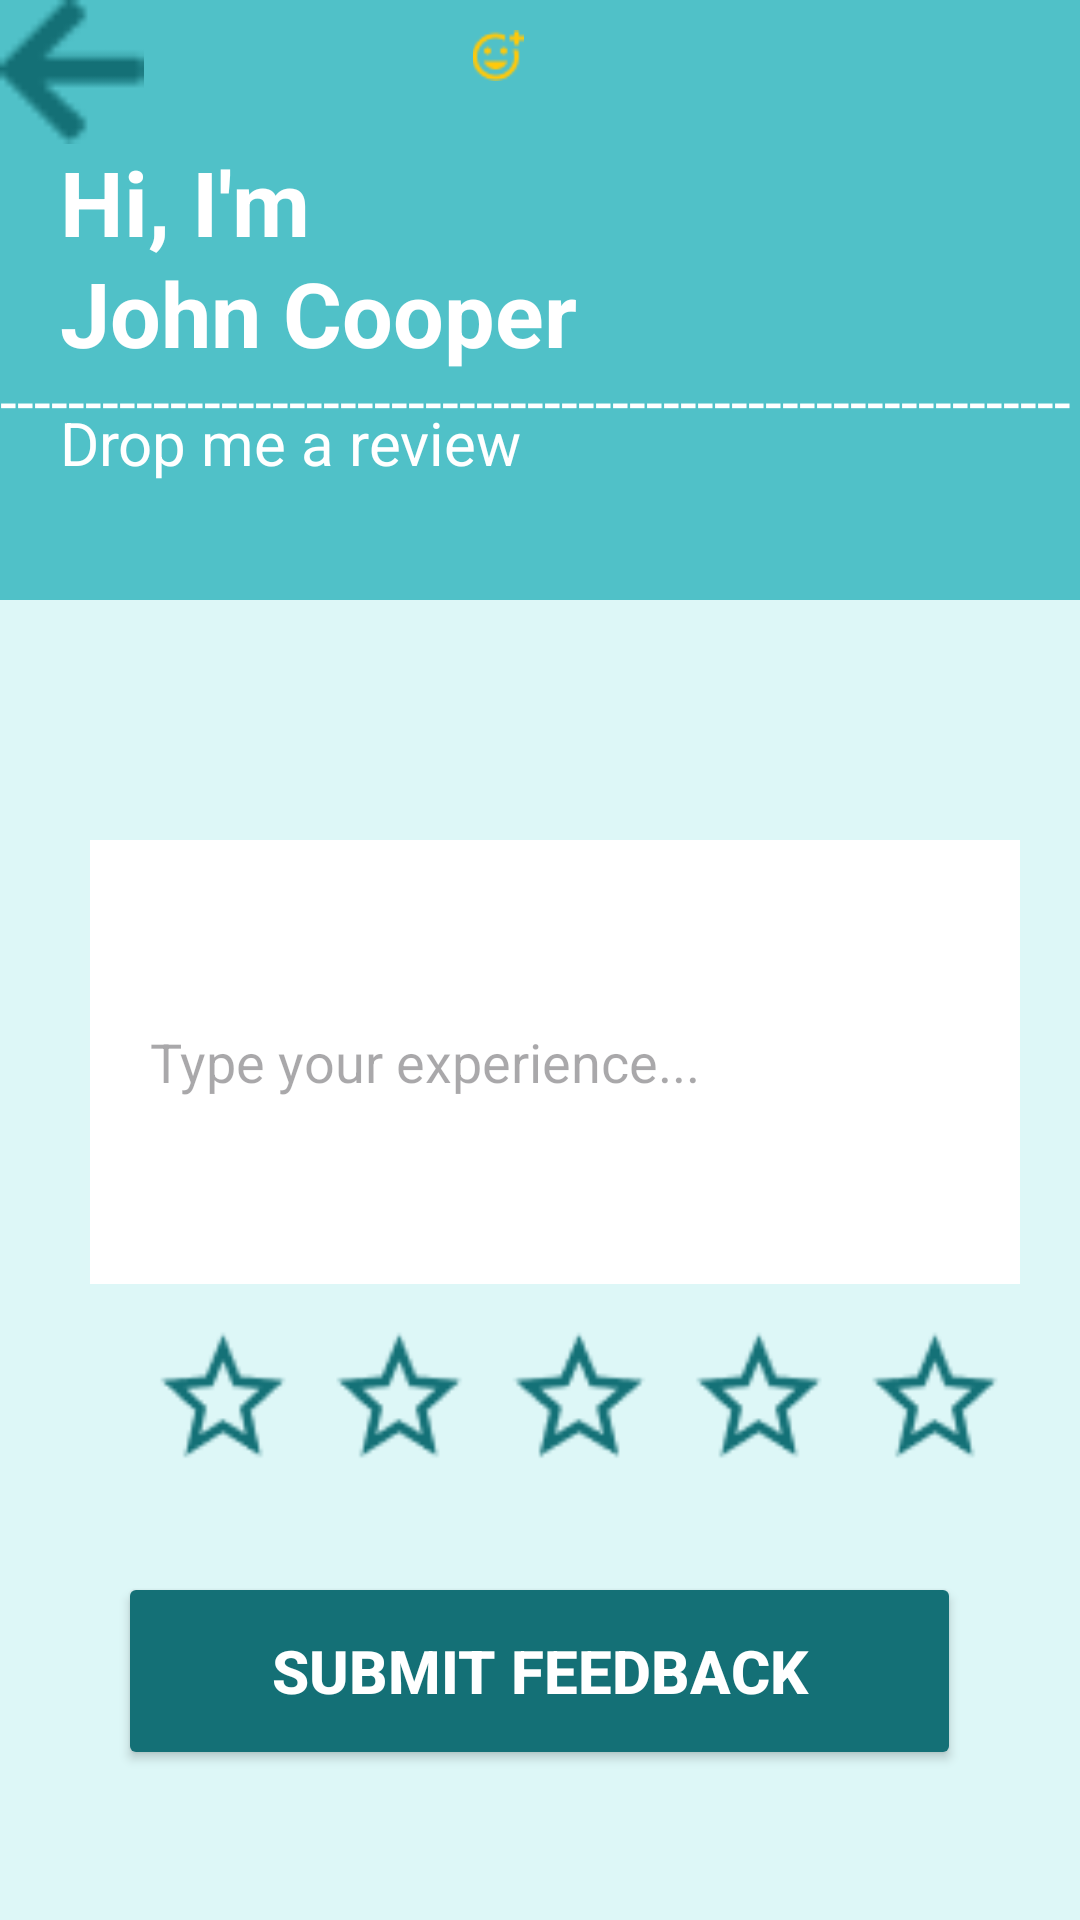

Icons on this 1080 x 1920 Android screen, each with the point to tap as (x=x, y=y):
smiley: (x=498, y=55)
